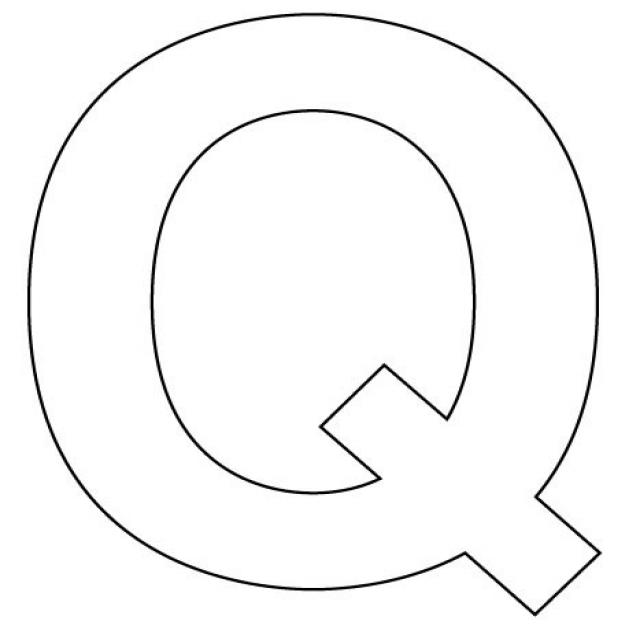Q: (13, 5, 606, 623)
